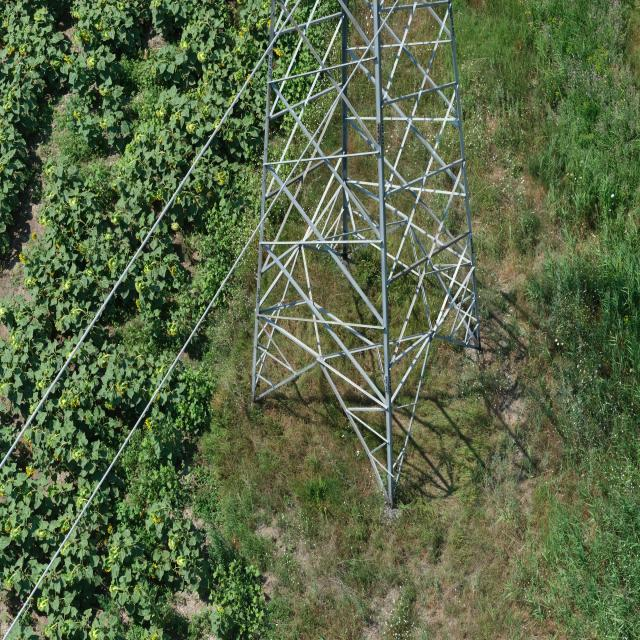direk: (258, 9, 478, 501)
